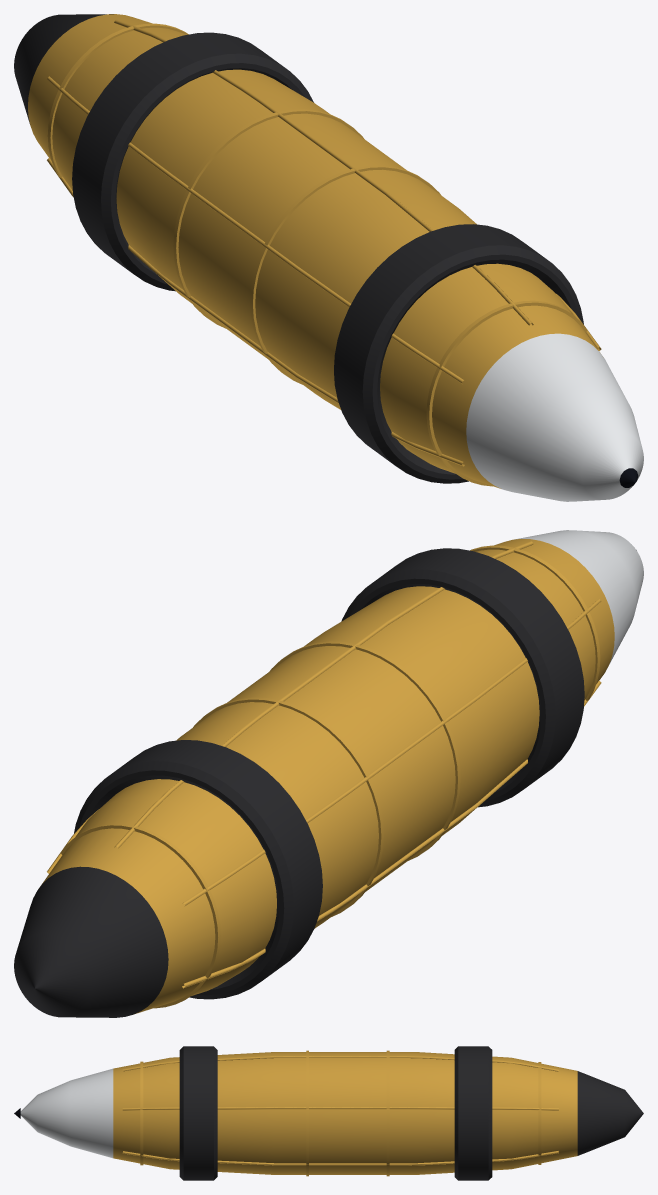
The model's file is rd1_body.obj.
3 views of the same model, one above another, from view 1: azimuth 30°, elevation 25°; view 2: azimuth 150°, elevation 25°; view 3: azimuth 270°, elevation 25° (orthographic). The views are drawn at different scales.
Visible parts, largest first — view 1: rd1_body; view 2: rd1_body; view 3: rd1_body.
Boxes of the visible parts, x1,y1,x2,y2 form: rd1_body: (14,14,643,501); rd1_body: (14,530,643,1017); rd1_body: (14,1046,643,1180).
Bounding box in the file's own units: 0.284 × 0.284 × 1.33.
